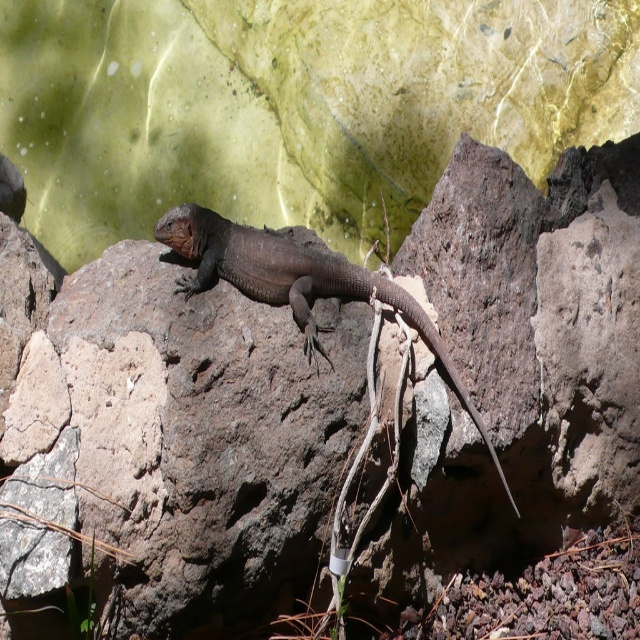Lizard: (165, 178, 490, 525)
